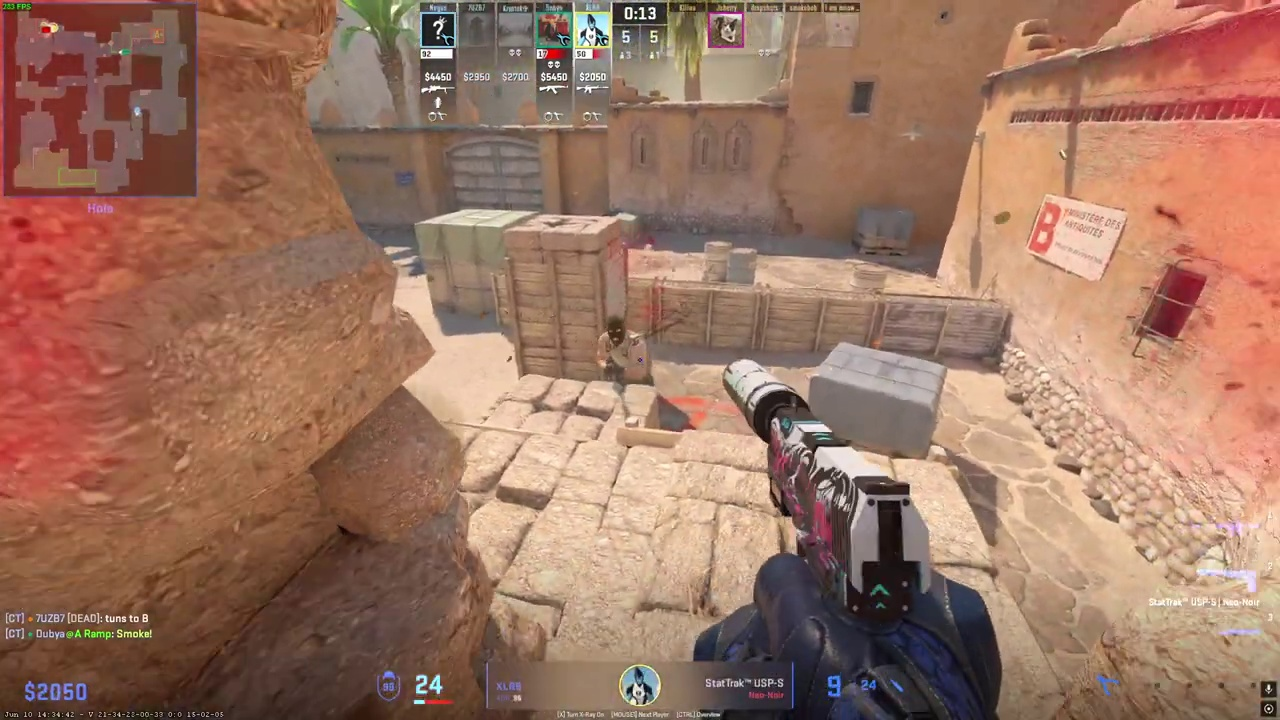Terrorist: (597, 315, 644, 407)
